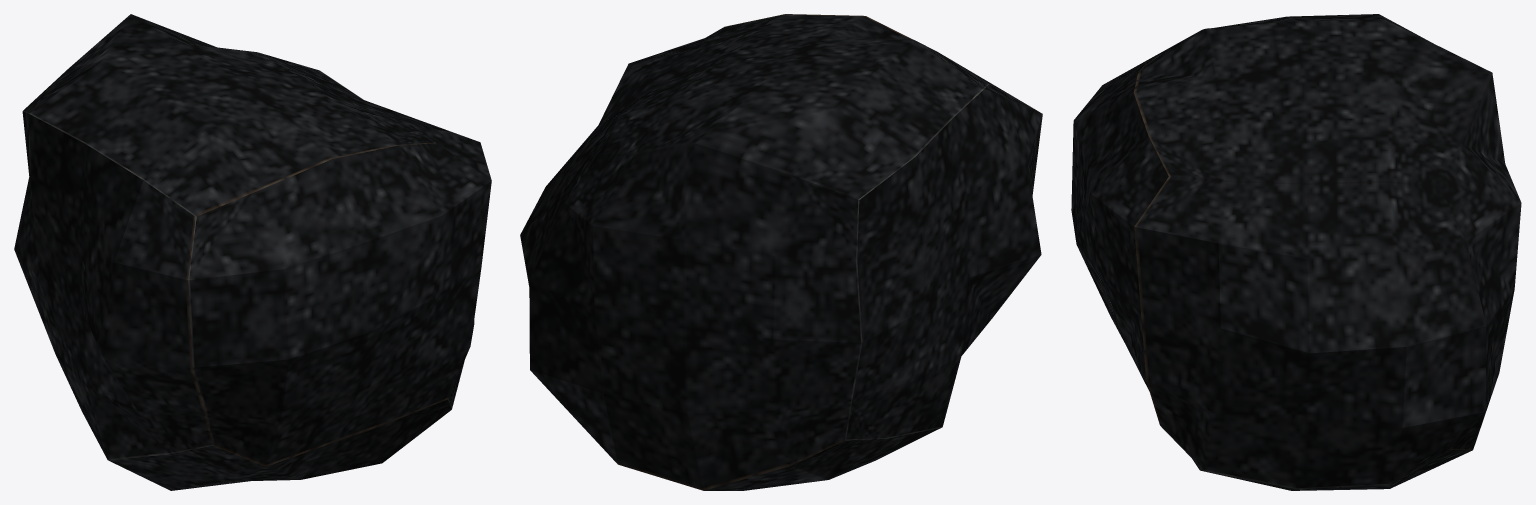
The model's file is SM_EC_Rock_47.fbx.
The picture shows the model from 3 angles, left to right: view 1: azimuth 30°, elevation 25°; view 2: azimuth 150°, elevation 25°; view 3: azimuth 270°, elevation 25°; orthographic projection. The views are drawn at different scales.
Parts seen in each view (by area): view 1: SM_EC_Rock_47; view 2: SM_EC_Rock_47; view 3: SM_EC_Rock_47.
Part boxes in pixels (x1=…): SM_EC_Rock_47: x1=14, y1=14, x2=491, y2=490; SM_EC_Rock_47: x1=520, y1=14, x2=1042, y2=490; SM_EC_Rock_47: x1=1071, y1=14, x2=1521, y2=490.
Size of the model in its own units: 1.17 by 1.1 by 1.06.
